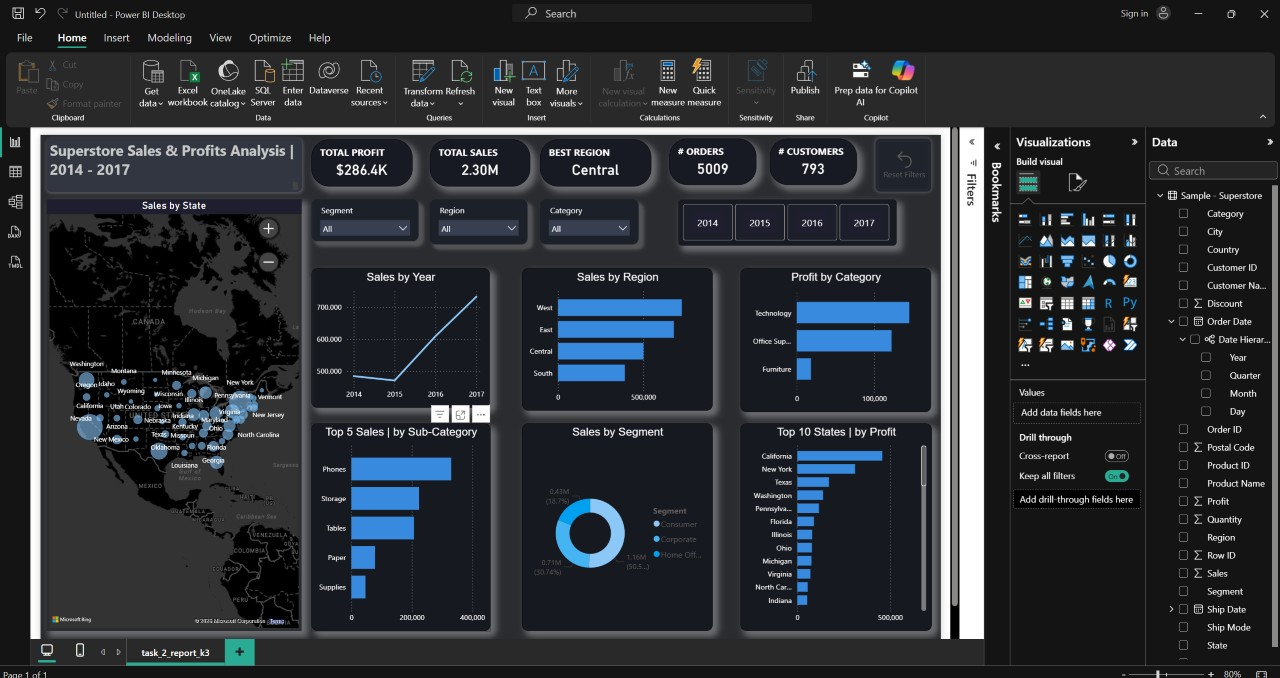

The dashboard page shown, as its layout file describes it:
{"tool":"powerbi","page":{"name":"task_2_report_k3","canvas":[1500,900],"ordinal":0},"visuals":[{"type":"clusteredBarChart","title":"Sales by Region","fields":{"Y":["Sum(Sample - Superstore.Sales)"],"Category":["Sample - Superstore.Region"]},"box":[802.5,222.5,317.5,237.5],"z":0},{"type":"clusteredBarChart","title":"Profit by Category","fields":{"Category":["Sample - Superstore.Category"],"Y":["Sum(Sample - Superstore.Profit)"]},"box":[1166.2,222.5,317.5,240],"z":1000},{"type":"lineChart","title":"Sales by Year","fields":{"Category":["Sample - Superstore.Order Date.Variation.Date Hierarchy.Year","Sample - Superstore.Order Date.Variation.Date Hierarchy.Quarter","Sample - Superstore.Order Date.Variation.Date Hierarchy.Month","Sample - Superstore.Order Date.Variation.Date Hierarchy.Day"],"Y":["Sum(Sample - Superstore.Sales)"]},"box":[451.2,222.5,297.5,232.5],"z":2000},{"type":"donutChart","title":"Sales by Segment","fields":{"Y":["Sum(Sample - Superstore.Sales)"],"Category":["Sample - Superstore.Segment"]},"box":[802.5,481.2,317.5,346.2],"z":3000},{"type":"advancedSlicerVisual","fields":{"Values":["Sample - Superstore.Order Date.Variation.Date Hierarchy.Year"]},"box":[1062.5,107.5,363.8,77.5],"z":5000},{"type":"card","title":"TOTAL PROFIT","fields":{"Values":["Sum(Sample - Superstore.Profit)"]},"box":[451.2,7.5,168.8,78.8],"z":6000},{"type":"card","title":"TOTAL SALES","fields":{"Values":["Sum(Sample - Superstore.Sales)"]},"box":[648.8,7.5,167.5,78.8],"z":7000},{"type":"card","title":"BEST REGION","fields":{"Values":["Min(Sample - Superstore.Region)"]},"box":[832.5,7.5,185,78.8],"z":8000},{"type":"slicer","fields":{"Values":["Sample - Superstore.Region"]},"box":[648.8,107.5,162.5,75],"z":9000},{"type":"slicer","fields":{"Values":["Sample - Superstore.Category"]},"box":[832.5,107.5,163.8,75],"z":10000},{"type":"slicer","fields":{"Values":["Sample - Superstore.Segment"]},"box":[451.2,107.5,178.8,70],"z":11000},{"type":"map","title":"Sales by State","fields":{"Category":["Sample - Superstore.State"],"Size":["Sum(Sample - Superstore.Sales)"]},"box":[10,107.5,425,720],"z":12000},{"type":"card","title":"# ORDERS","fields":{"Values":["Count(Sample - Superstore.Order ID)"]},"box":[1047.5,6.2,145,77.5],"z":13000},{"type":"card","title":"# CUSTOMERS","fields":{"Values":["Count(Sample - Superstore.Customer ID)"]},"box":[1215,6.2,145,77.5],"z":13001},{"type":"textbox","title":"Superstore Sales & Profits Analysis | 2014 - 2017","box":[10,6.2,425,88.8],"z":13003},{"type":"actionButton","title":"Reset Slicer","box":[1391.2,6.2,92.5,88.8],"z":13004},{"type":"clusteredBarChart","title":"Top 5 Sales | by Sub-Category","fields":{"Category":["Sample - Superstore.Sub-Category"],"Y":["Sum(Sample - Superstore.Sales)"]},"box":[451.2,481.2,298.8,346.2],"z":13005},{"type":"clusteredBarChart","title":"Top 10 States | by Profit","fields":{"Y":["Sum(Sample - Superstore.Sales)"],"Category":["Sample - Superstore.State"]},"box":[1166.2,481.2,318.8,346.2],"z":13006}]}

Visuals, with their boxes on the page's 1500x900 design canvas (x1, y1, x2, y2). These are canvas units, not pixel positions in the 1280x678 screenshot, which may show the page scaled, cropped or inside an application window:
"Sales by Region" clusteredBarChart: <region>802, 222, 1120, 460</region>
"Profit by Category" clusteredBarChart: <region>1166, 222, 1484, 462</region>
"Sales by Year" lineChart: <region>451, 222, 749, 455</region>
"Sales by Segment" donutChart: <region>802, 481, 1120, 827</region>
advancedSlicerVisual - Sample - Superstore.Order Date.Variation.Date Hierarchy.Year: <region>1062, 108, 1426, 185</region>
"TOTAL PROFIT" card: <region>451, 8, 620, 86</region>
"TOTAL SALES" card: <region>649, 8, 816, 86</region>
"BEST REGION" card: <region>832, 8, 1018, 86</region>
slicer - Sample - Superstore.Region: <region>649, 108, 811, 182</region>
slicer - Sample - Superstore.Category: <region>832, 108, 996, 182</region>
slicer - Sample - Superstore.Segment: <region>451, 108, 630, 178</region>
"Sales by State" map: <region>10, 108, 435, 828</region>
"# ORDERS" card: <region>1048, 6, 1192, 84</region>
"# CUSTOMERS" card: <region>1215, 6, 1360, 84</region>
"Superstore Sales & Profits Analysis | 2014 - 2017" textbox: <region>10, 6, 435, 95</region>
"Reset Slicer" actionButton: <region>1391, 6, 1484, 95</region>
"Top 5 Sales | by Sub-Category" clusteredBarChart: <region>451, 481, 750, 827</region>
"Top 10 States | by Profit" clusteredBarChart: <region>1166, 481, 1485, 827</region>
